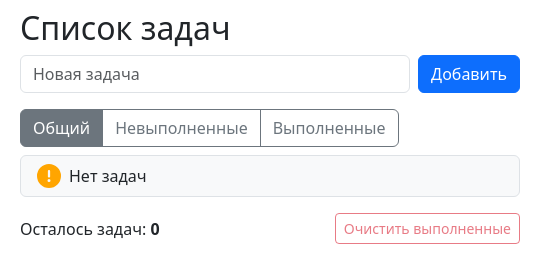
Test: TodoPage › adds a new task
In the field with test id "new-task-input": (215, 74) x1=20 y1=55 x2=410 y2=93, type "Test Task"
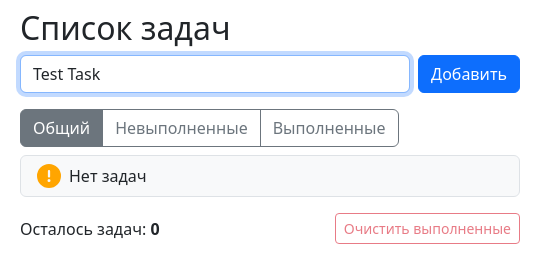
Click the button with test id "add-btn": (469, 74) x1=418 y1=55 x2=520 y2=93
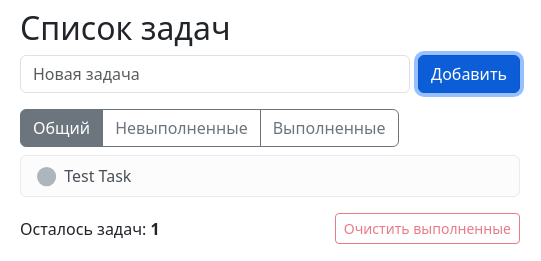
Expected: the text "Test Task" is shown, x1=37 y1=164 x2=131 y2=188
